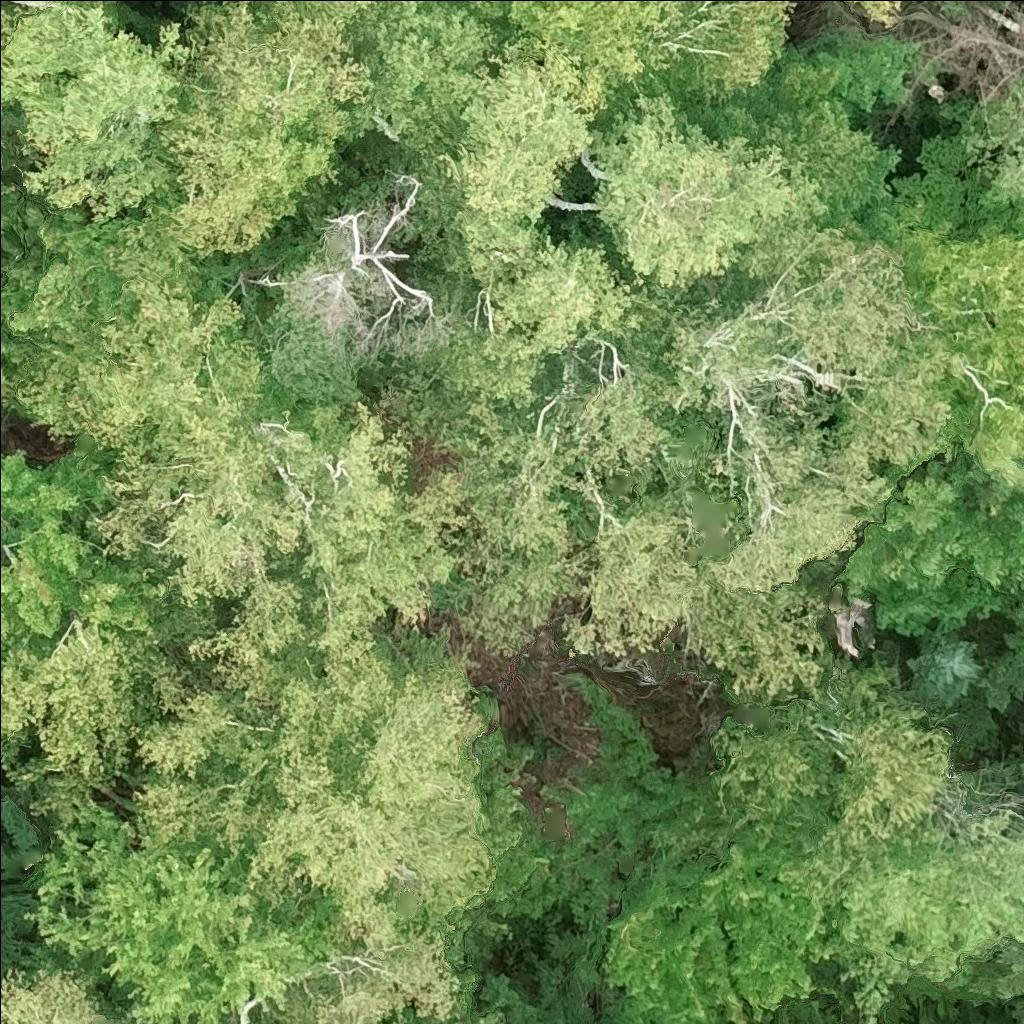crown: (129, 625, 503, 959), (655, 211, 975, 597), (0, 221, 294, 560), (403, 367, 706, 661), (590, 48, 909, 319), (155, 398, 463, 666), (20, 798, 352, 1023), (141, 0, 377, 268), (779, 809, 1023, 1023), (420, 33, 607, 291), (857, 191, 1023, 481), (708, 663, 948, 855), (423, 233, 659, 423), (596, 833, 831, 1023), (0, 0, 198, 221), (0, 624, 214, 827), (0, 446, 171, 649), (503, 0, 673, 120), (270, 923, 471, 1023), (679, 576, 828, 705), (891, 622, 1023, 758), (645, 0, 794, 96), (0, 964, 104, 1023), (300, 0, 393, 51), (842, 0, 908, 27)
